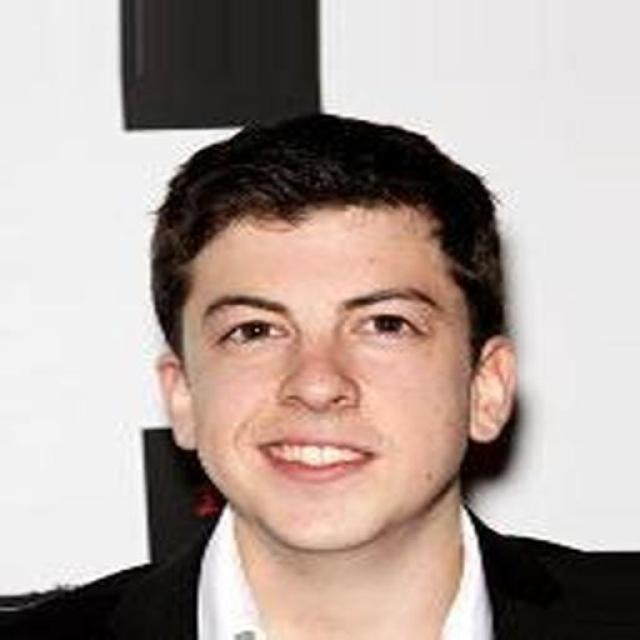bareface: (178, 122, 470, 558)
